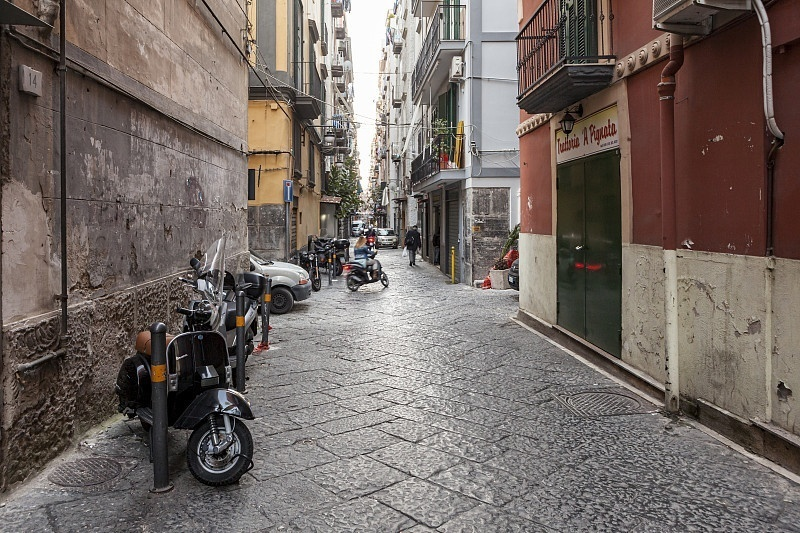non-vehicle: (117, 260, 263, 492), (344, 247, 389, 292)
